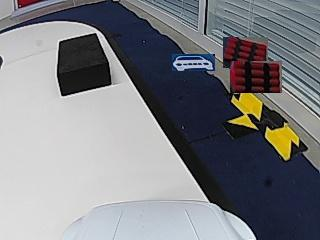block: (56, 33, 110, 96)
